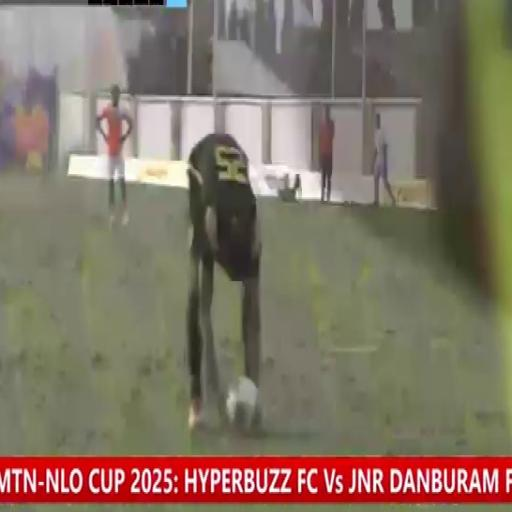ball: (220, 380, 268, 430)
team2: (174, 102, 276, 444)
